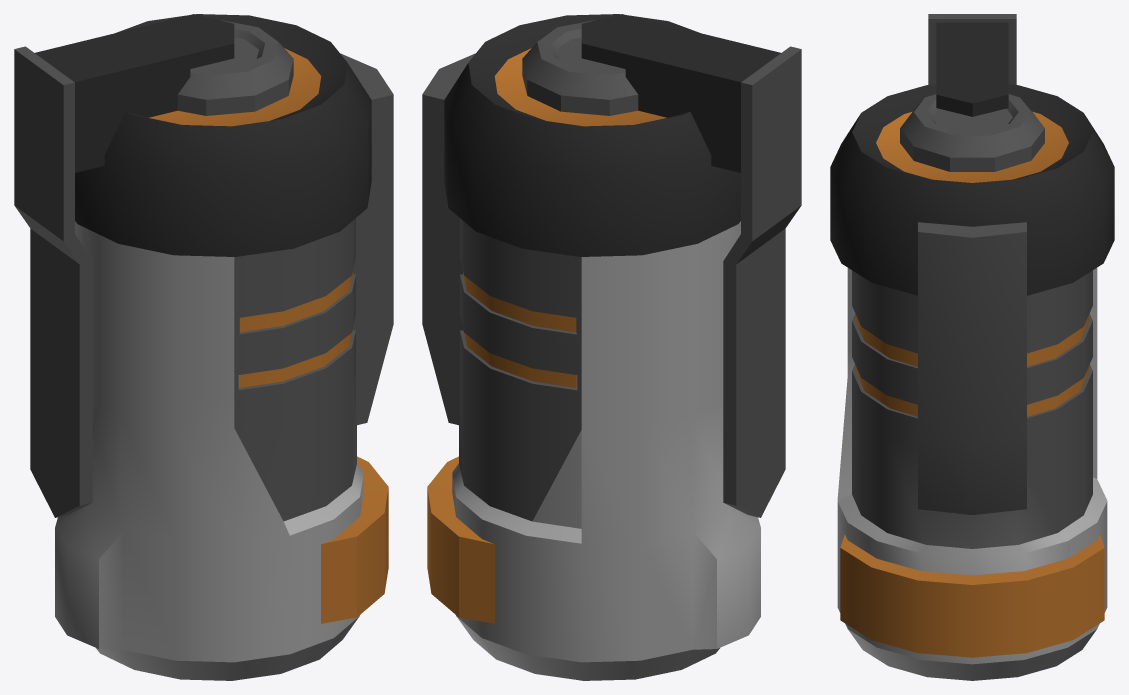
File: Scifi Grenade.glb
The picture shows the model from 3 angles, left to right: view 1: azimuth 30°, elevation 25°; view 2: azimuth 150°, elevation 25°; view 3: azimuth 270°, elevation 25°; orthographic projection. The views are drawn at different scales.
Visible parts, largest first — view 1: Grenade; view 2: Grenade; view 3: Grenade.
Part boxes in pixels (<box>): Grenade: <box>14,14,393,680</box>; Grenade: <box>422,14,801,680</box>; Grenade: <box>830,14,1114,680</box>.
Bounding box in the file's own units: 0.1785 × 0.3033 × 0.1447.
